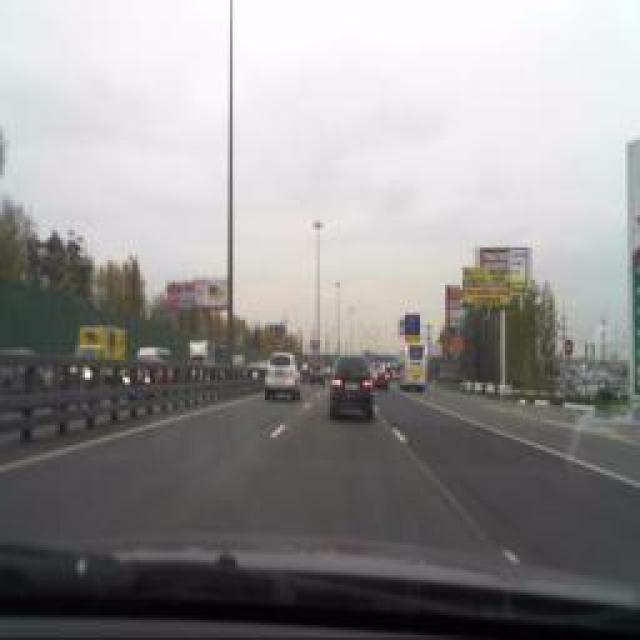sign: (565, 340, 575, 358)
